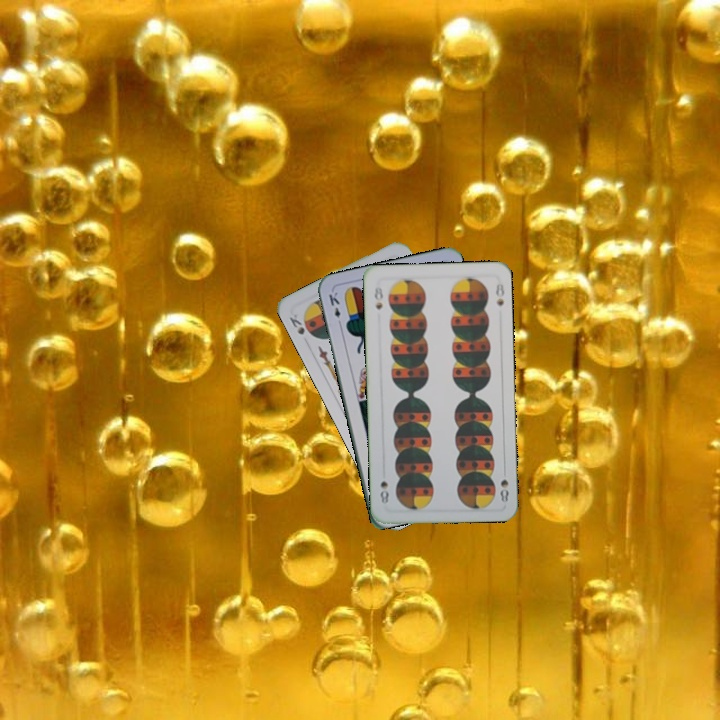EK: (324, 288, 344, 329)
S8: (370, 282, 386, 312), (496, 475, 511, 505)
SK: (285, 309, 307, 337)
